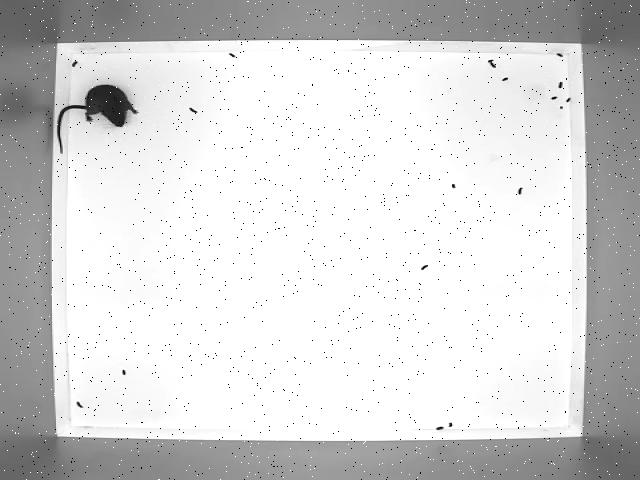Tikus: (56, 82, 142, 152)
